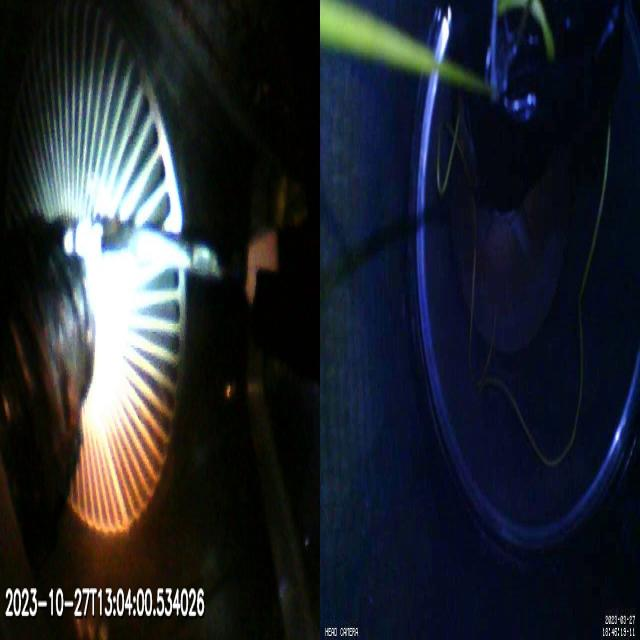head: (246, 225, 295, 308)
white-dots: (64, 217, 106, 259)
